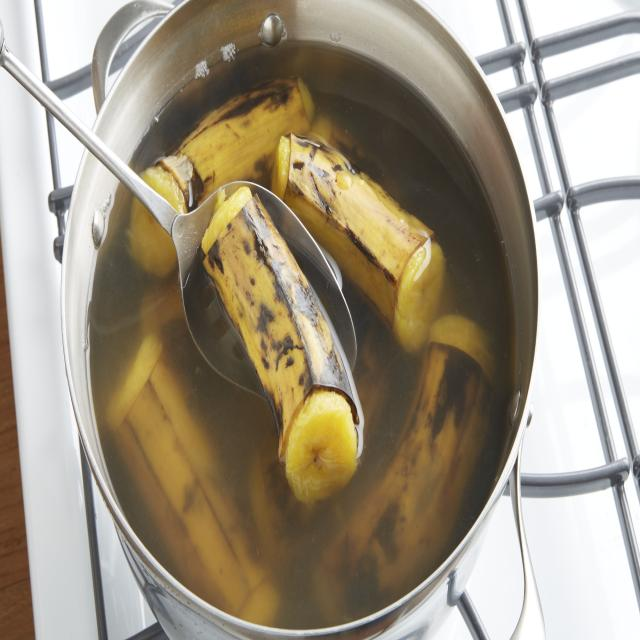platano: (193, 189, 367, 489)
